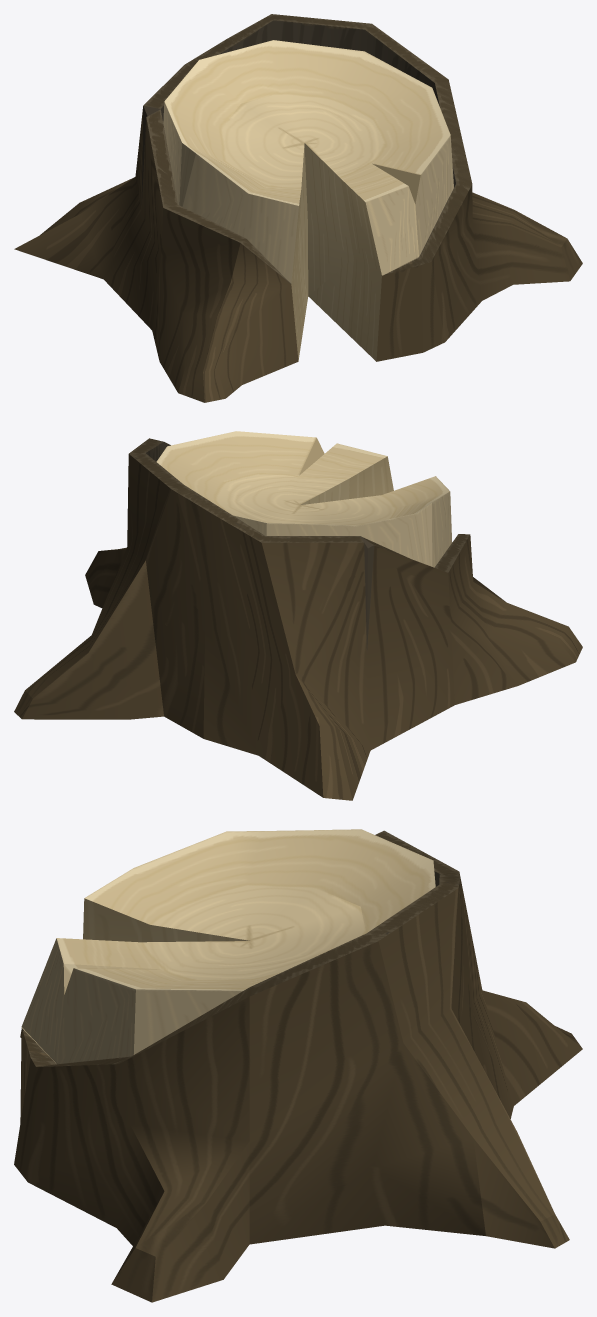
The model's file is Stump_Split_01.fbx.
The picture shows the model from 3 angles, top to bottom: view 1: azimuth 30°, elevation 25°; view 2: azimuth 150°, elevation 25°; view 3: azimuth 270°, elevation 25°; orthographic projection. The views are drawn at different scales.
Parts seen in each view (by area): view 1: pCylinder2; view 2: pCylinder2; view 3: pCylinder2.
Part boxes in pixels (box(x1,y1,x2,y2)): pCylinder2: box(14, 14, 582, 402); pCylinder2: box(14, 431, 582, 800); pCylinder2: box(14, 829, 582, 1302).
Bounding box in the file's own units: 19.18 × 8.99 × 16.18.
1 material, 1 textured.
